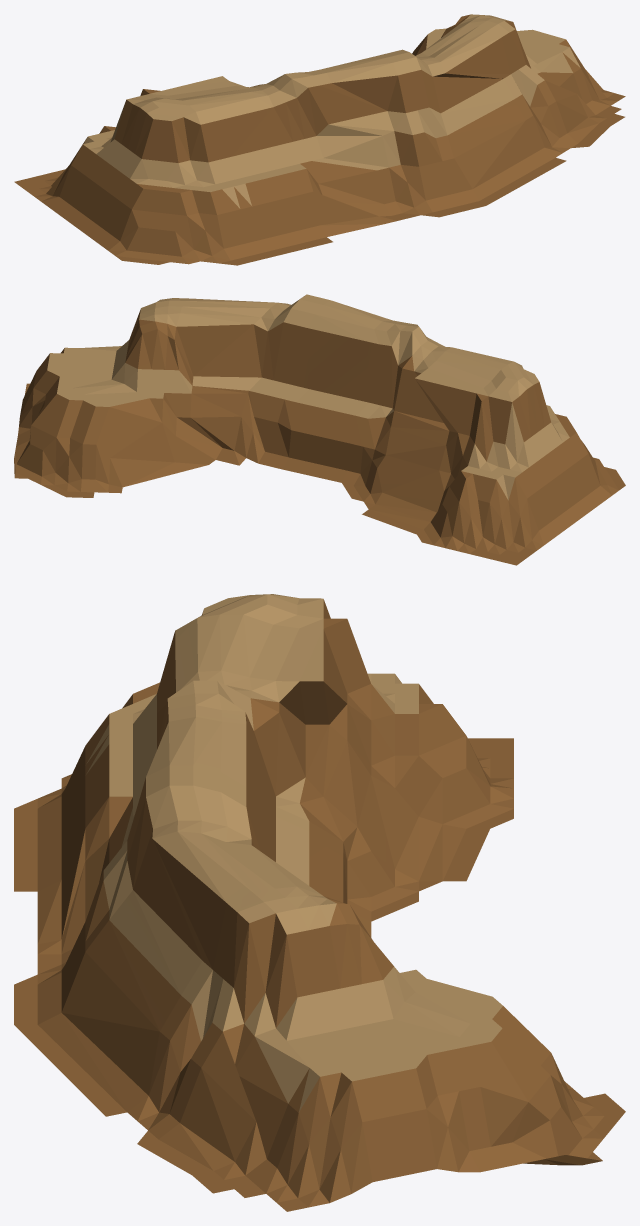
The model's file is mountain.glb.
3 renders of one model, top to bottom at view 1: azimuth 30°, elevation 25°; view 2: azimuth 150°, elevation 25°; view 3: azimuth 270°, elevation 25°, orthographic. The views are drawn at different scales.
Parts seen in each view (by area): view 1: Mountain2; view 2: Mountain2; view 3: Mountain2.
Part boxes in pixels (bbox=[...]): Mountain2: bbox=[14, 14, 625, 265]; Mountain2: bbox=[14, 294, 625, 565]; Mountain2: bbox=[14, 594, 625, 1211].
Size of the model in its own units: 87.91 by 20.54 by 48.19.
